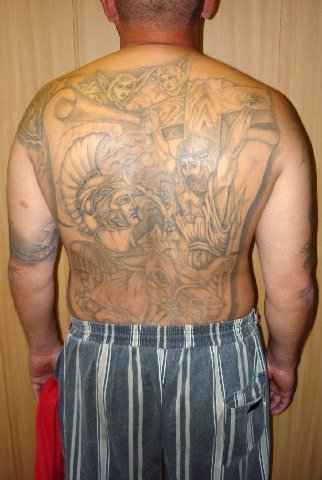tatu1_angel: (86, 61, 192, 106)
